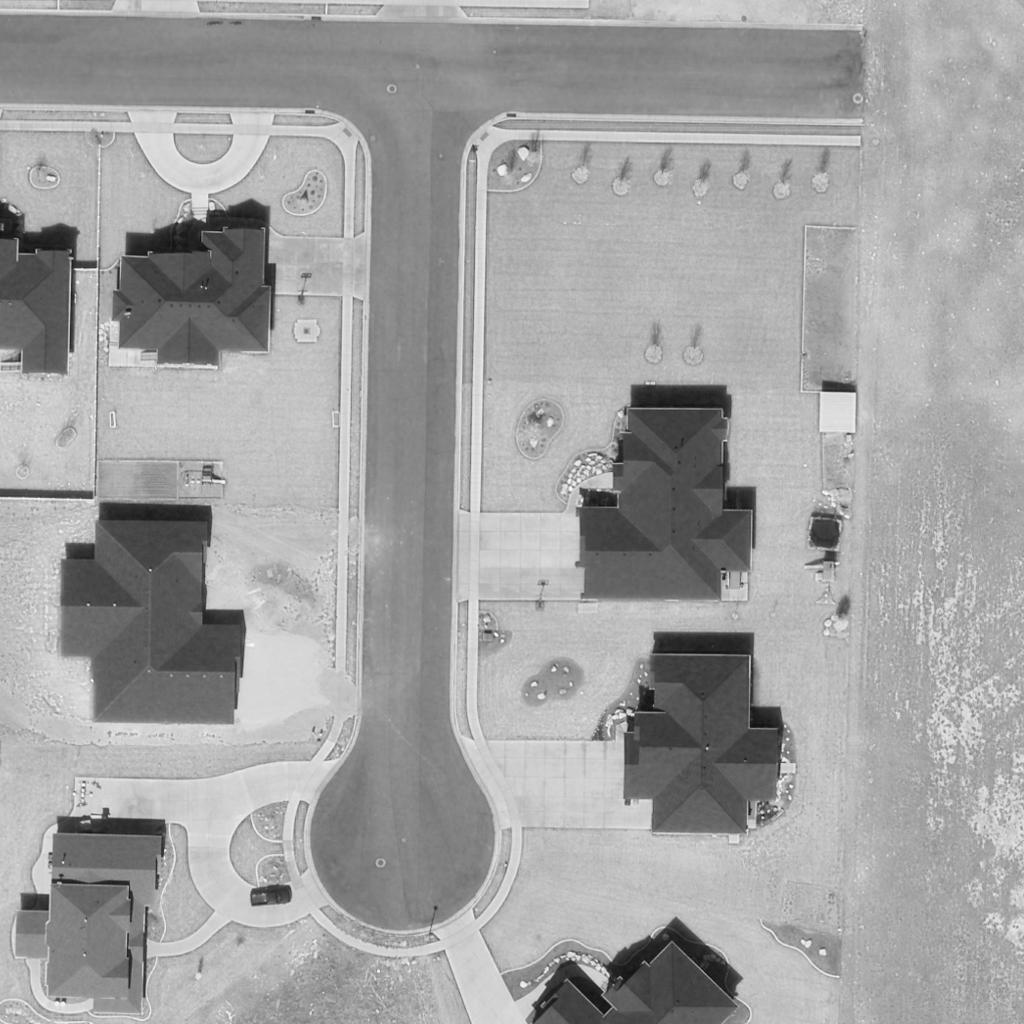vehicle: (250, 889, 292, 907)
